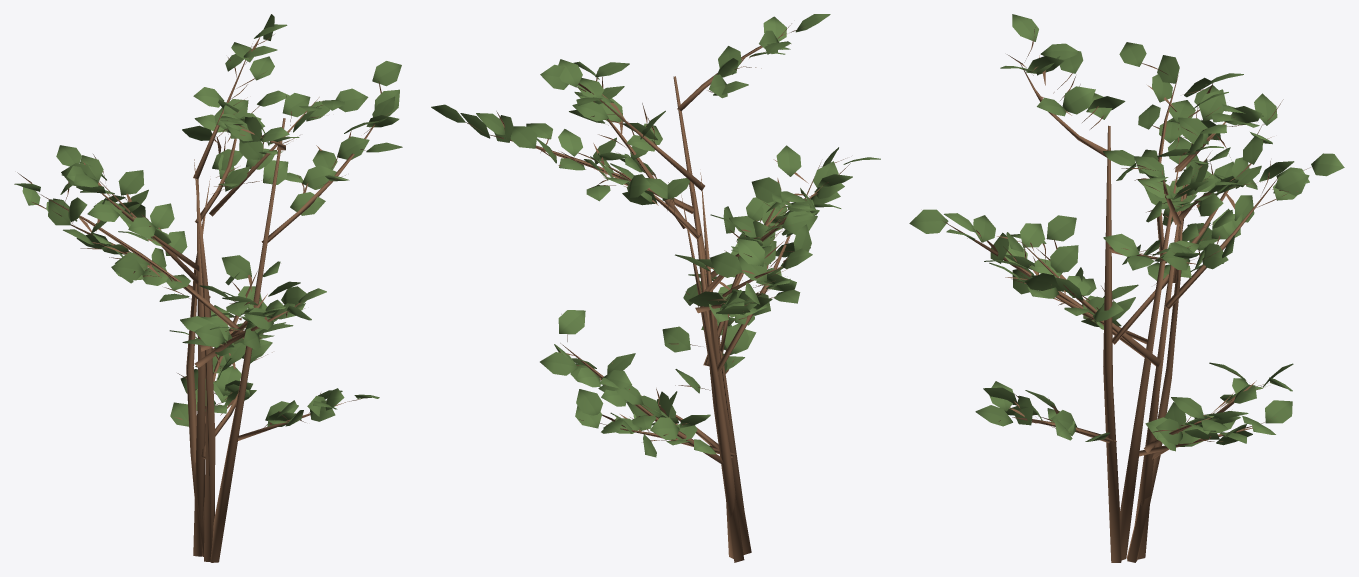
The model's file is Arbousier_2_LOD2.fbx.
The picture shows the model from 3 angles, left to right: view 1: azimuth 30°, elevation 25°; view 2: azimuth 150°, elevation 25°; view 3: azimuth 270°, elevation 25°; orthographic projection. The views are drawn at different scales.
Visible parts, largest first — view 1: Arbousier_2_LOD2; view 2: Arbousier_2_LOD2; view 3: Arbousier_2_LOD2.
Boxes of the visible parts, x1=… form: Arbousier_2_LOD2: x1=14, y1=14, x2=402, y2=562; Arbousier_2_LOD2: x1=431, y1=14, x2=880, y2=562; Arbousier_2_LOD2: x1=909, y1=14, x2=1344, y2=562.
Bounding box in the file's own units: 327 × 400 × 298.
